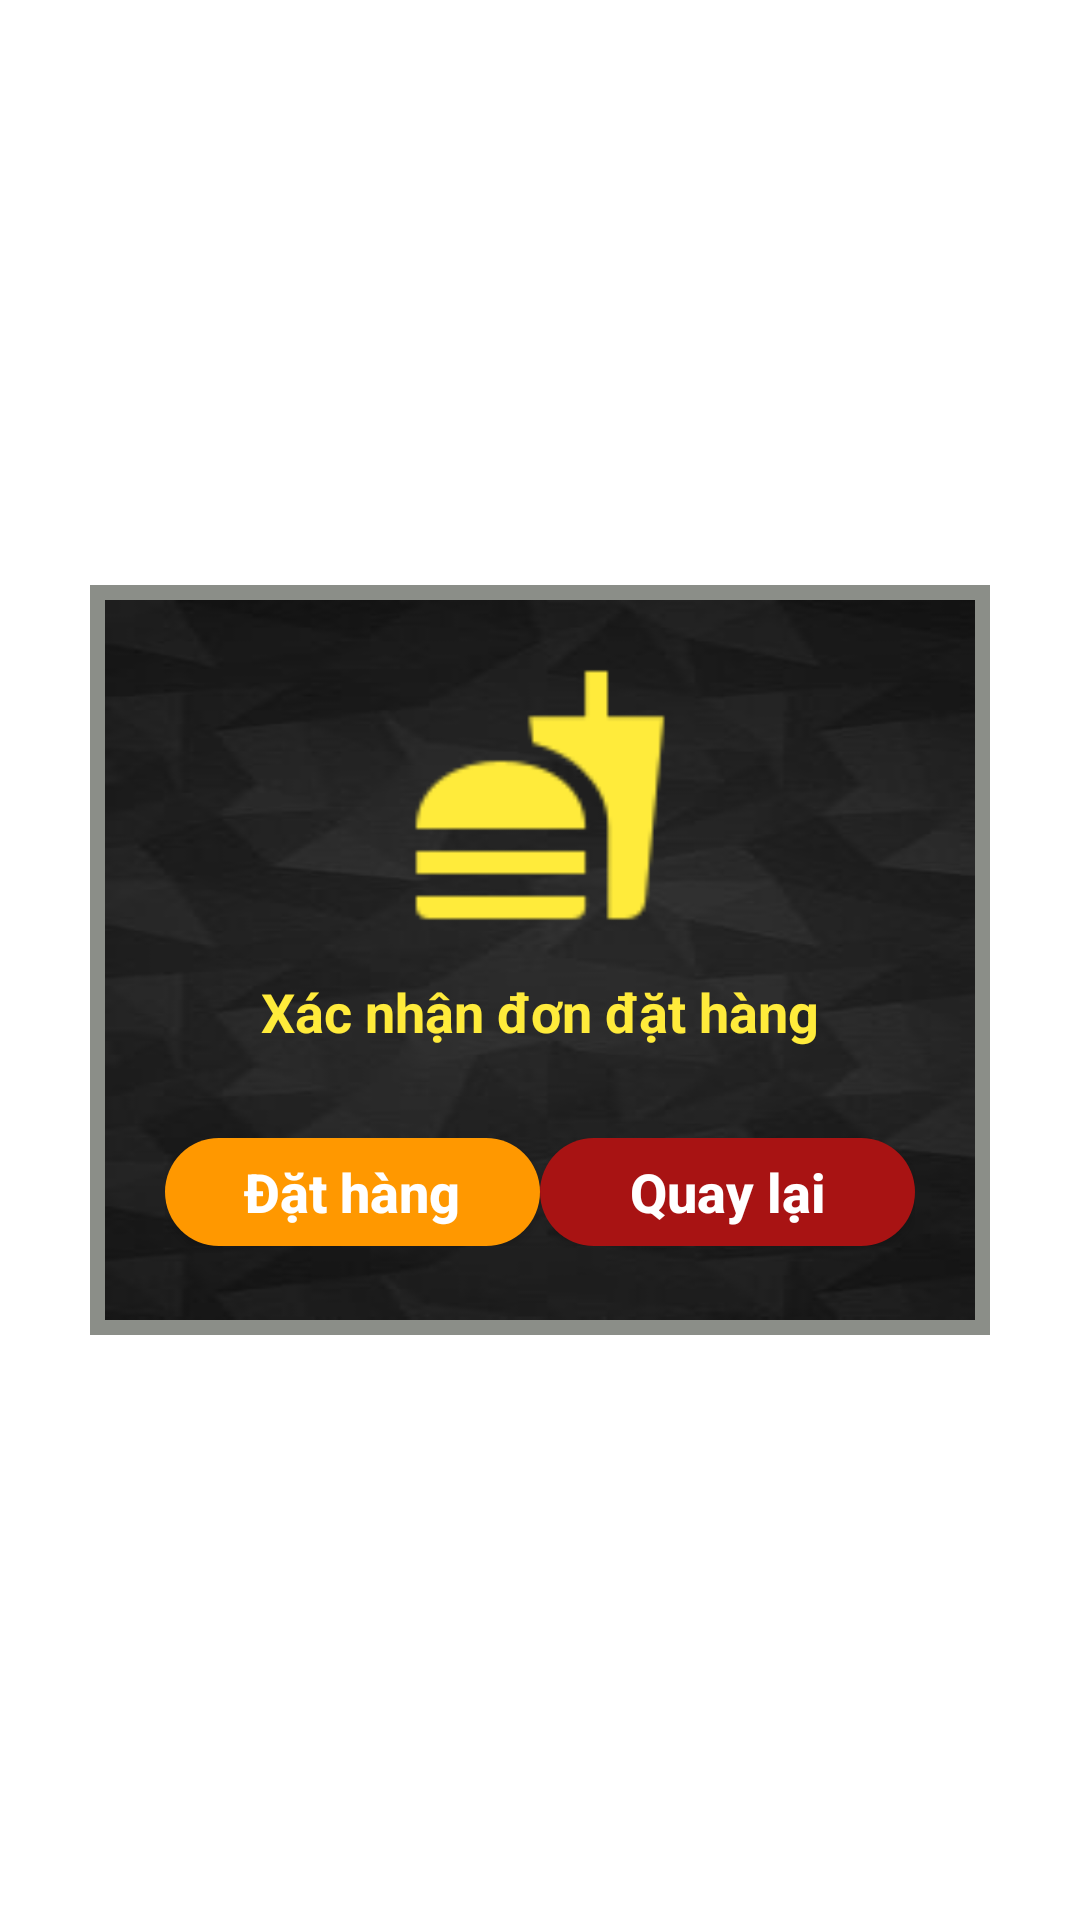

Icons on this 1080 x 1920 Android screen, each with the point to tap as [x,y]:
fastfood: [540,795]
